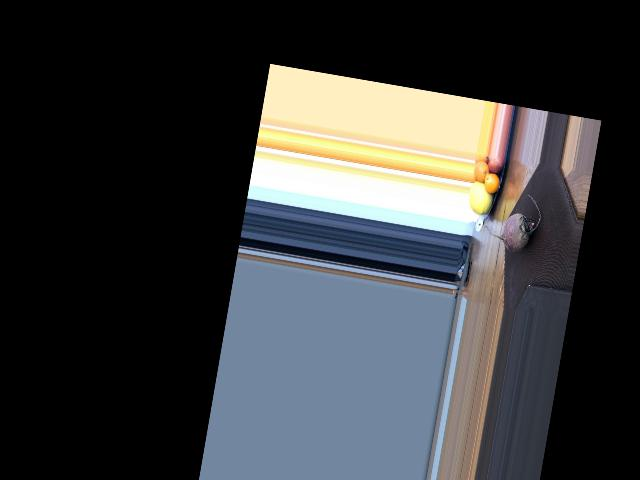beet: (483, 188, 544, 255)
